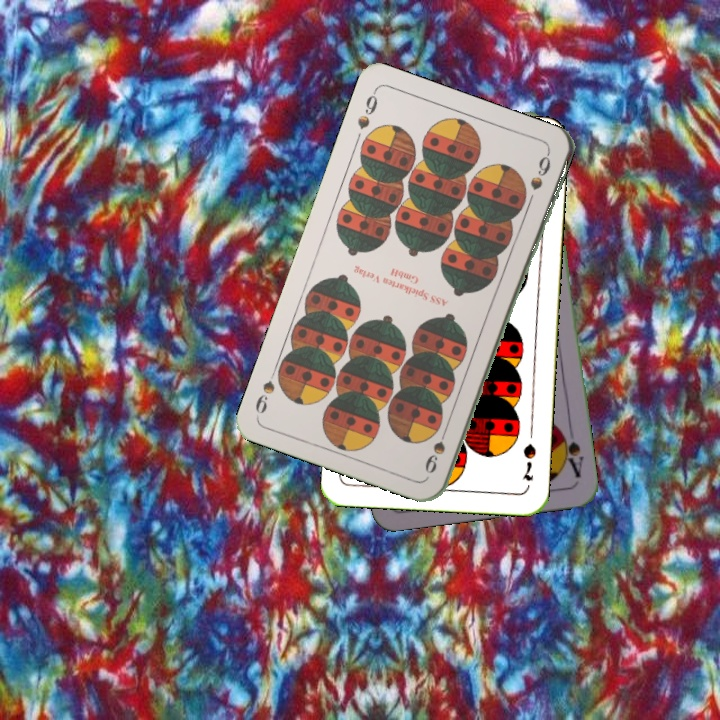S7: (518, 440, 539, 484)
S9: (421, 421, 451, 476), (353, 87, 381, 132)
SA: (556, 424, 587, 481)
